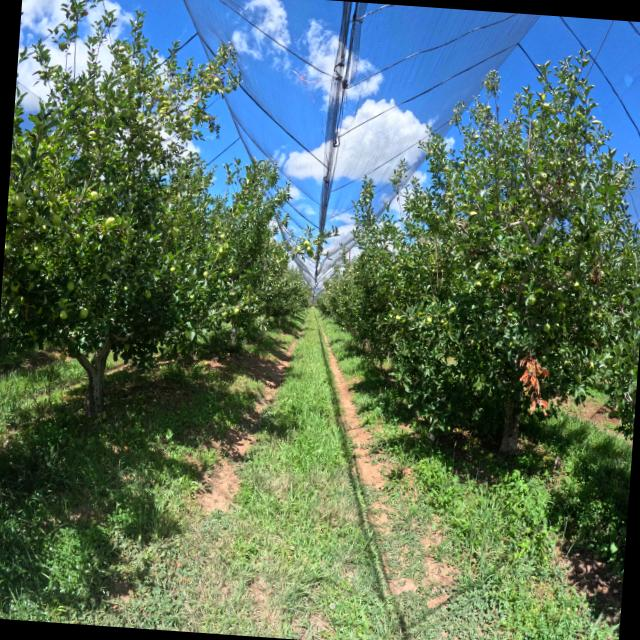-FireBlight-: (515, 355, 552, 416)
